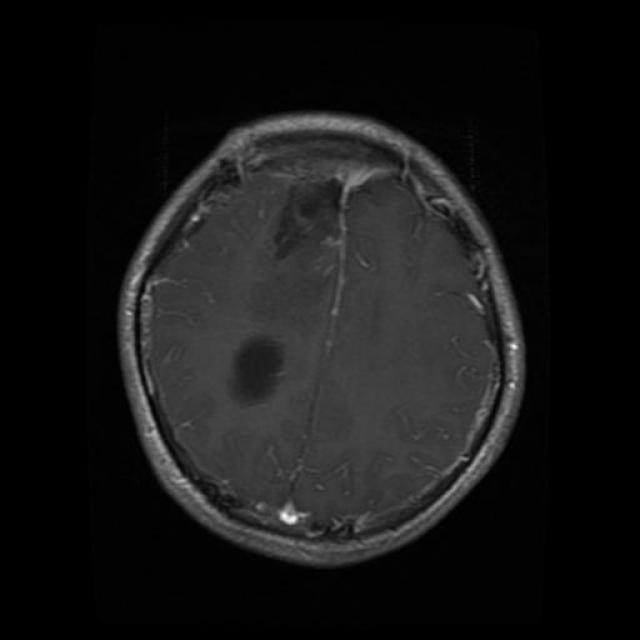glioma: (232, 334, 282, 405)
